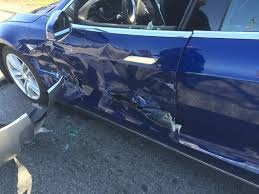Dent: (36, 41, 182, 143)
